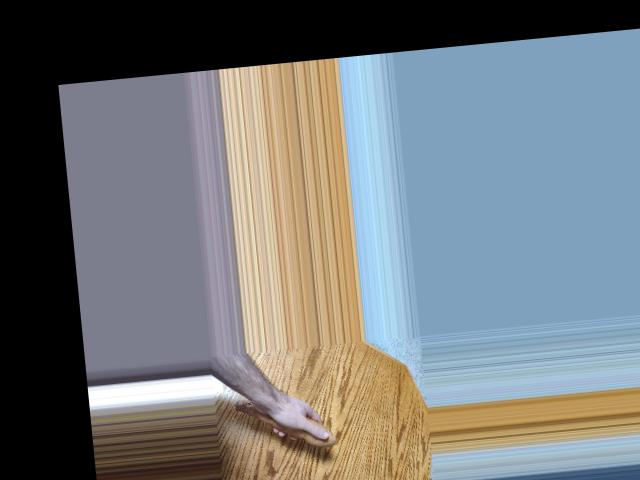sweet_potato: (231, 390, 332, 453)
